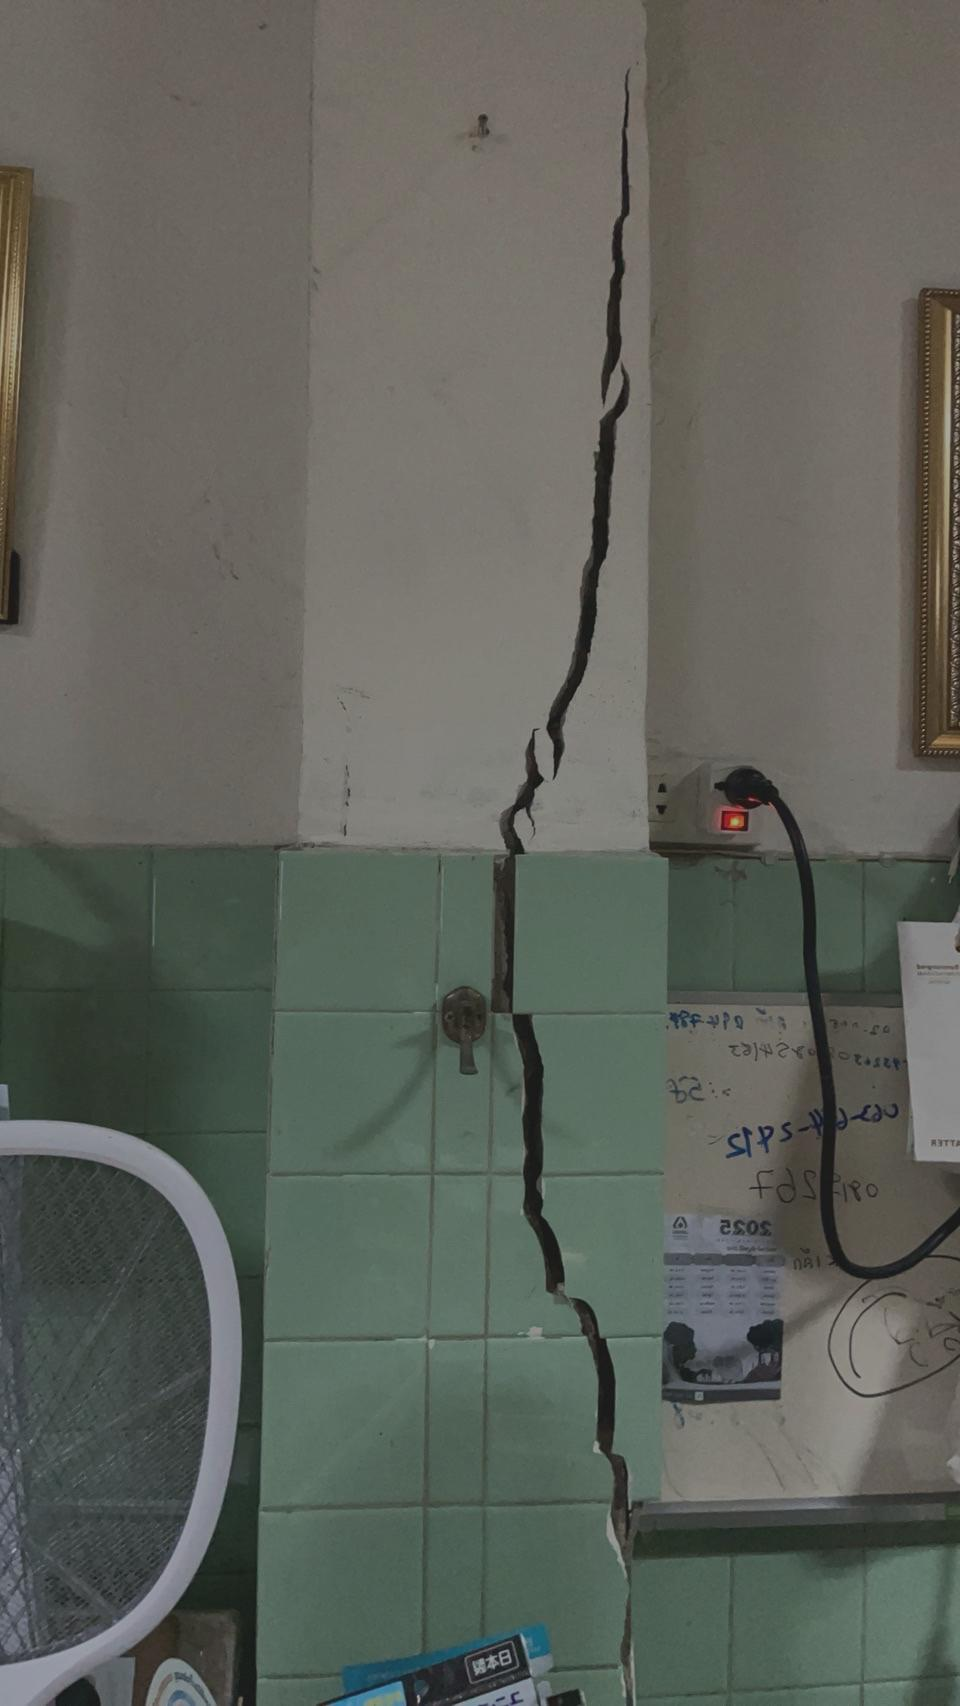High: (477, 59, 681, 1706)
